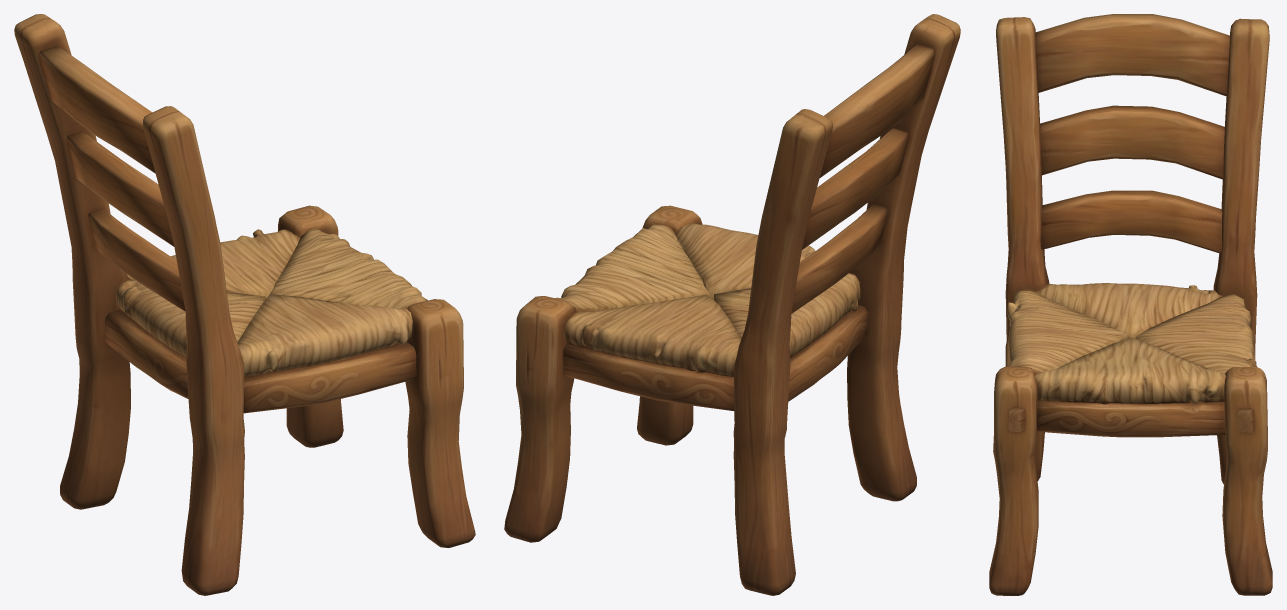
3 views of the same model, side by side, from view 1: azimuth 30°, elevation 25°; view 2: azimuth 150°, elevation 25°; view 3: azimuth 270°, elevation 25° (orthographic). The views are drawn at different scales.
Parts seen in each view (by area): view 1: tripo_node_cb82d990-0fbd-410f-b653-521dd71b49c8; view 2: tripo_node_cb82d990-0fbd-410f-b653-521dd71b49c8; view 3: tripo_node_cb82d990-0fbd-410f-b653-521dd71b49c8.
Part boxes in pixels (x1=…): tripo_node_cb82d990-0fbd-410f-b653-521dd71b49c8: x1=14, y1=14, x2=475, y2=595; tripo_node_cb82d990-0fbd-410f-b653-521dd71b49c8: x1=504, y1=14, x2=960, y2=595; tripo_node_cb82d990-0fbd-410f-b653-521dd71b49c8: x1=989, y1=14, x2=1272, y2=595.
Size of the model in its own units: 0.6934 by 0.998 by 0.5723.
1 material, 1 textured.
